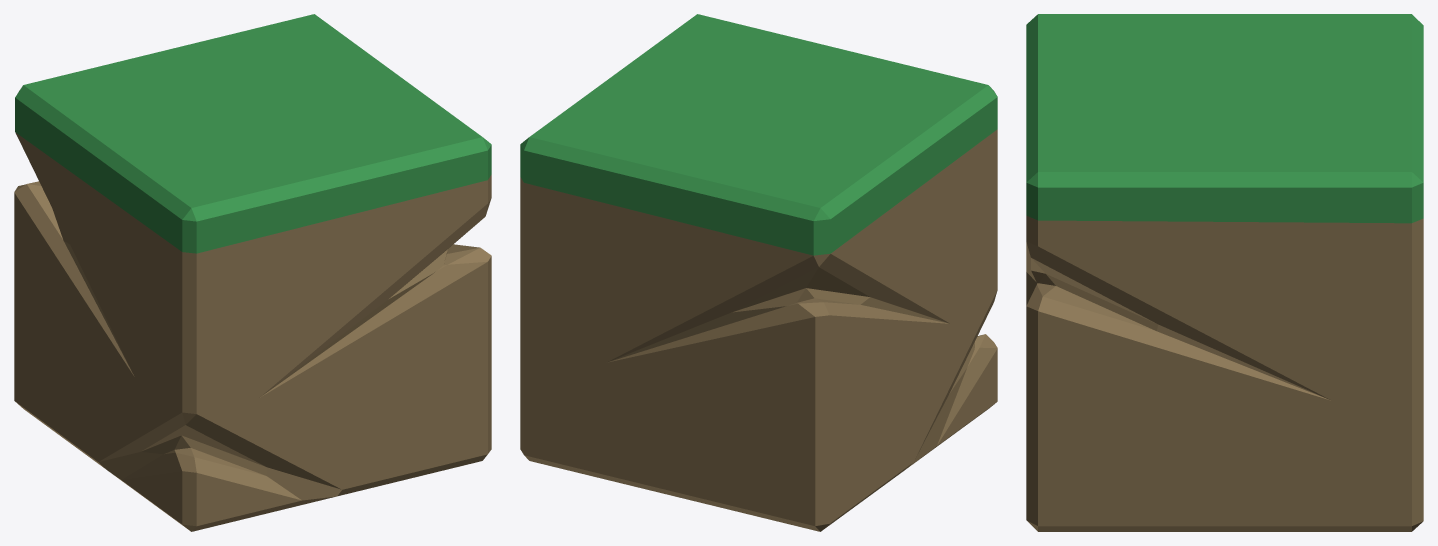
Rendered from GrassyBlock.fbx.
The picture shows the model from 3 angles, left to right: view 1: azimuth 30°, elevation 25°; view 2: azimuth 150°, elevation 25°; view 3: azimuth 270°, elevation 25°; orthographic projection. The views are drawn at different scales.
Parts seen in each view (by area): view 1: Cube.014_Cube.038; view 2: Cube.014_Cube.038; view 3: Cube.014_Cube.038.
Part boxes in pixels (<box>): Cube.014_Cube.038: <box>14,14,491,531</box>; Cube.014_Cube.038: <box>520,14,997,531</box>; Cube.014_Cube.038: <box>1026,14,1423,531</box>.
Bounding box in the file's own units: 82.87 × 82.87 × 82.87.
